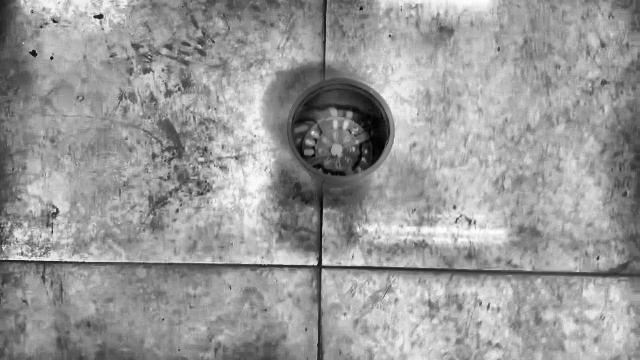pot: (286, 79, 394, 185)
